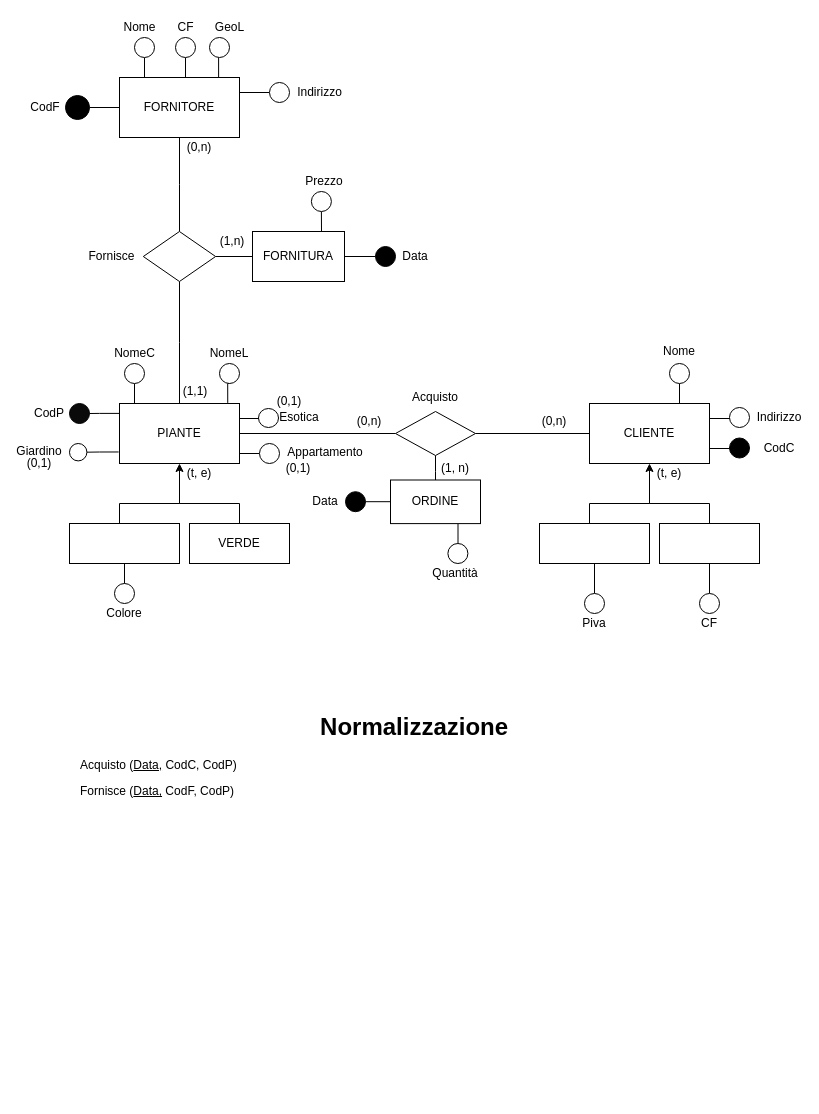
Some shapes in this 819 by 1114 pixel diagram are drawn without their labels. The shapes that lost their labels are listed below. From the top down, each one's box as (x1, y1, x2, y2) in pixels, then its label:
(68, 522, 180, 564): FIORITA
(538, 522, 650, 564): RIVENDITORE
(658, 522, 760, 564): PRIVATO
